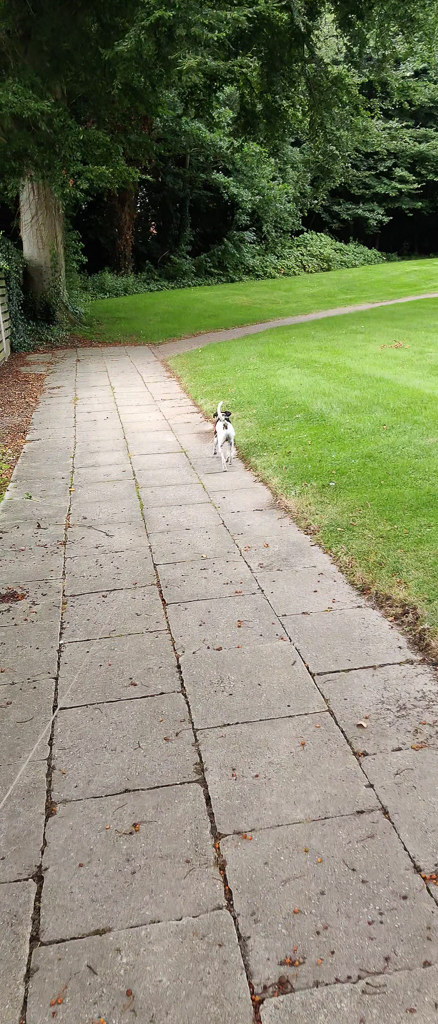Dog: (206, 396, 240, 478)
